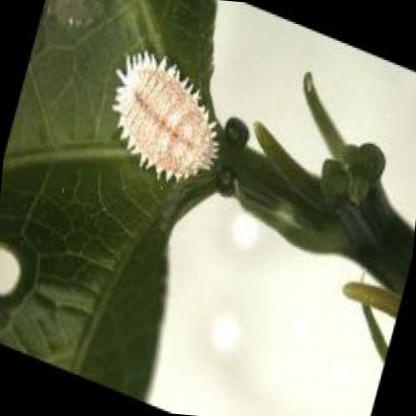mealy bug: (116, 57, 214, 180)
